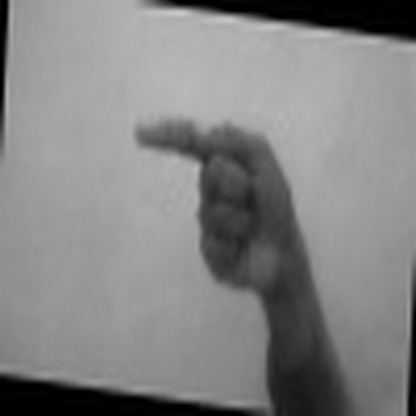g: (113, 106, 312, 294)
